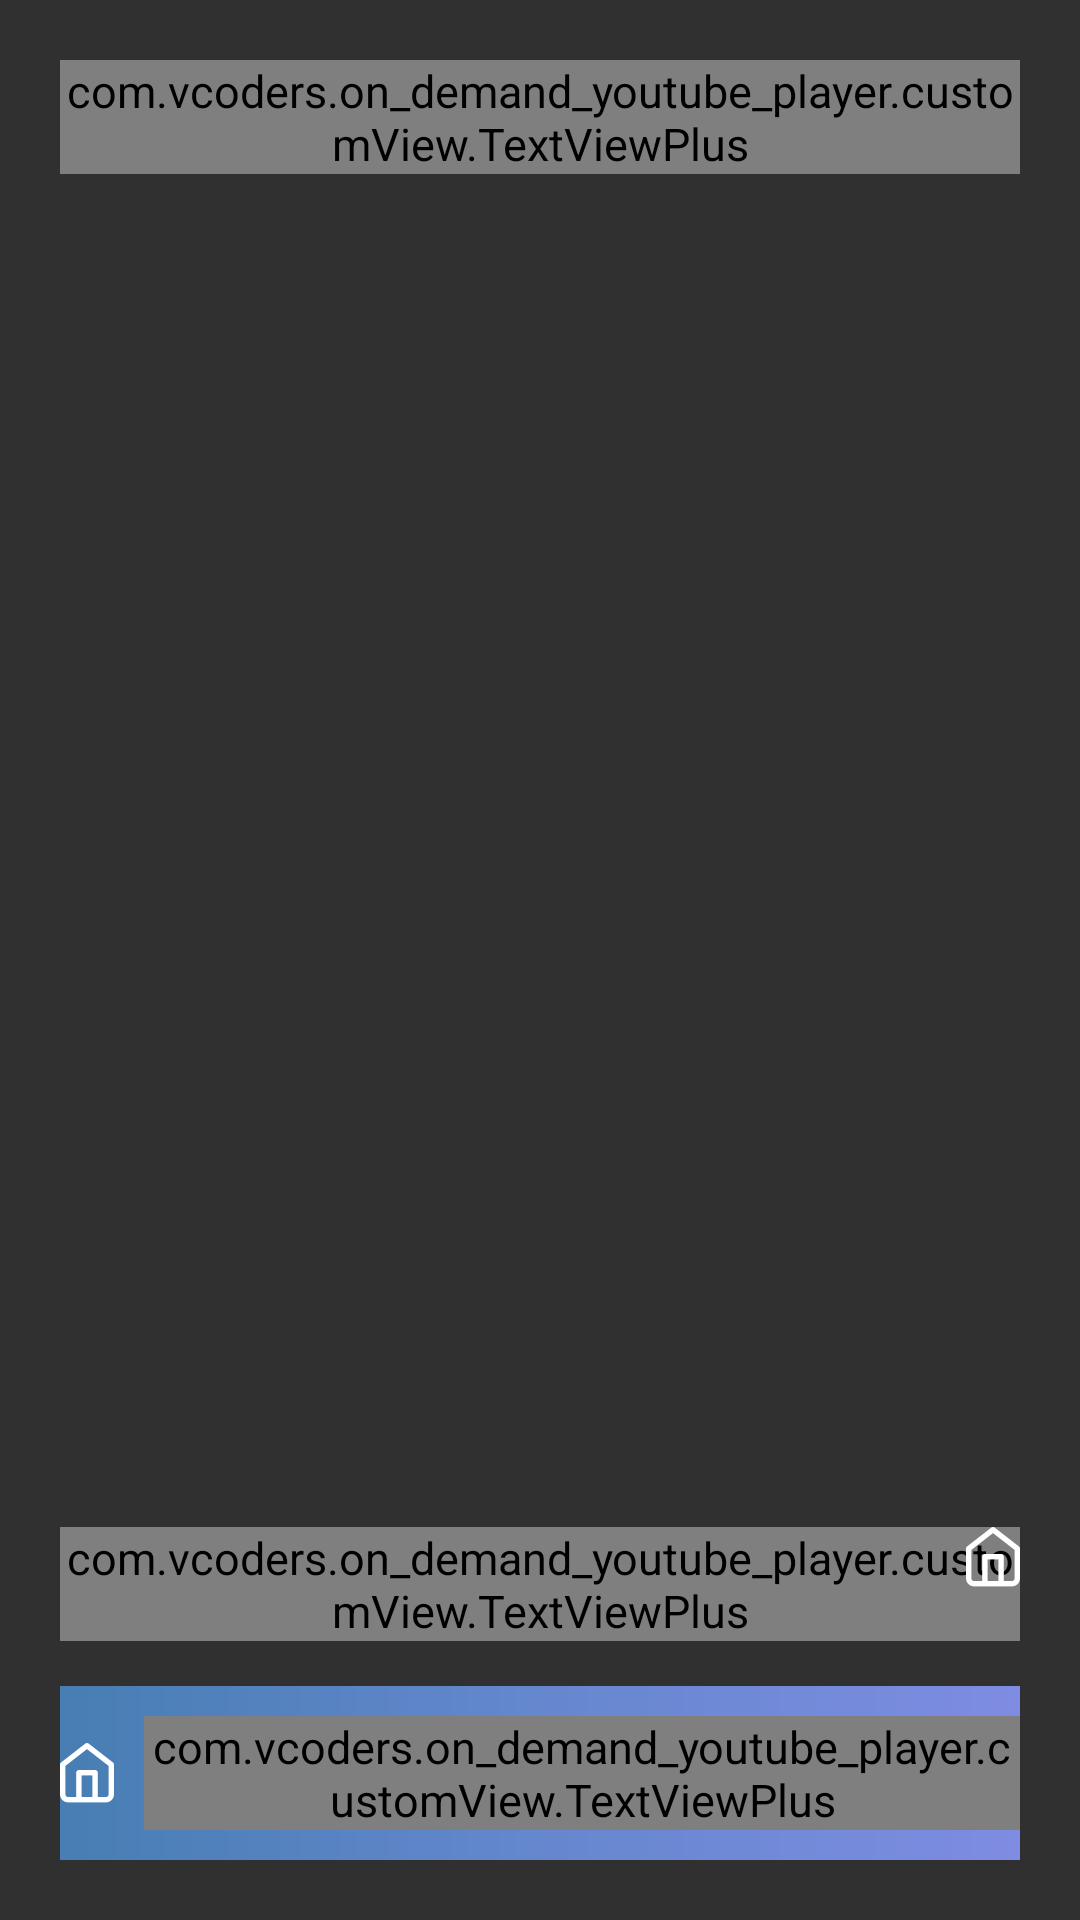

Point at icon controls on the screen. Image size 1080w x 1920h, points as (x=x, y=y).
home: (x=993, y=1557), (x=87, y=1773)
